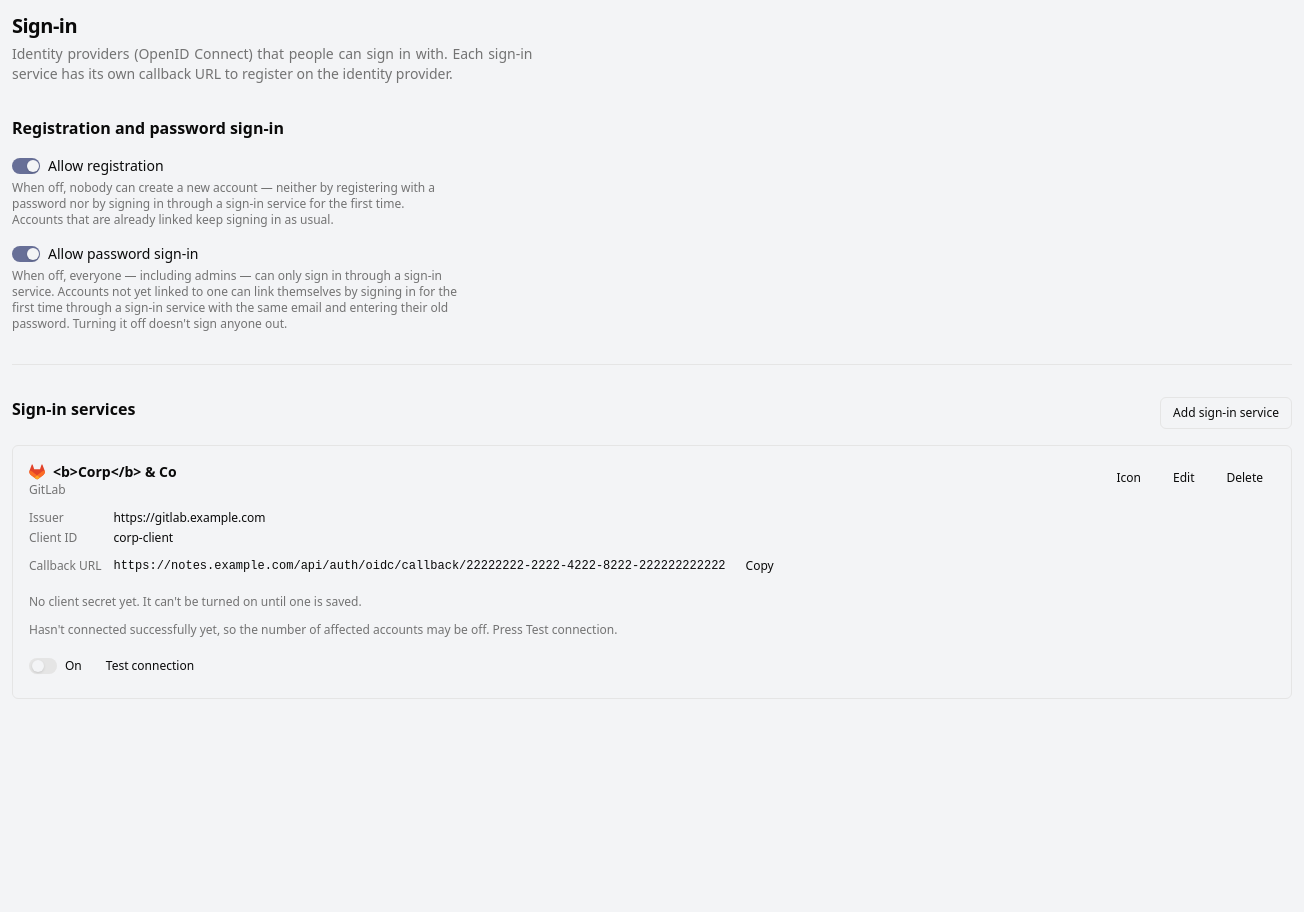
it: SettingsAuthSection（#187 §9.4 /admin/auth） › 複製回呼網址 → copyText 收到 callbackUrl、toast
What coordinates should you click on to do the following:
click the button "Copy"
I would click on:
 (760, 566)
Its box is [734,550,786,582].
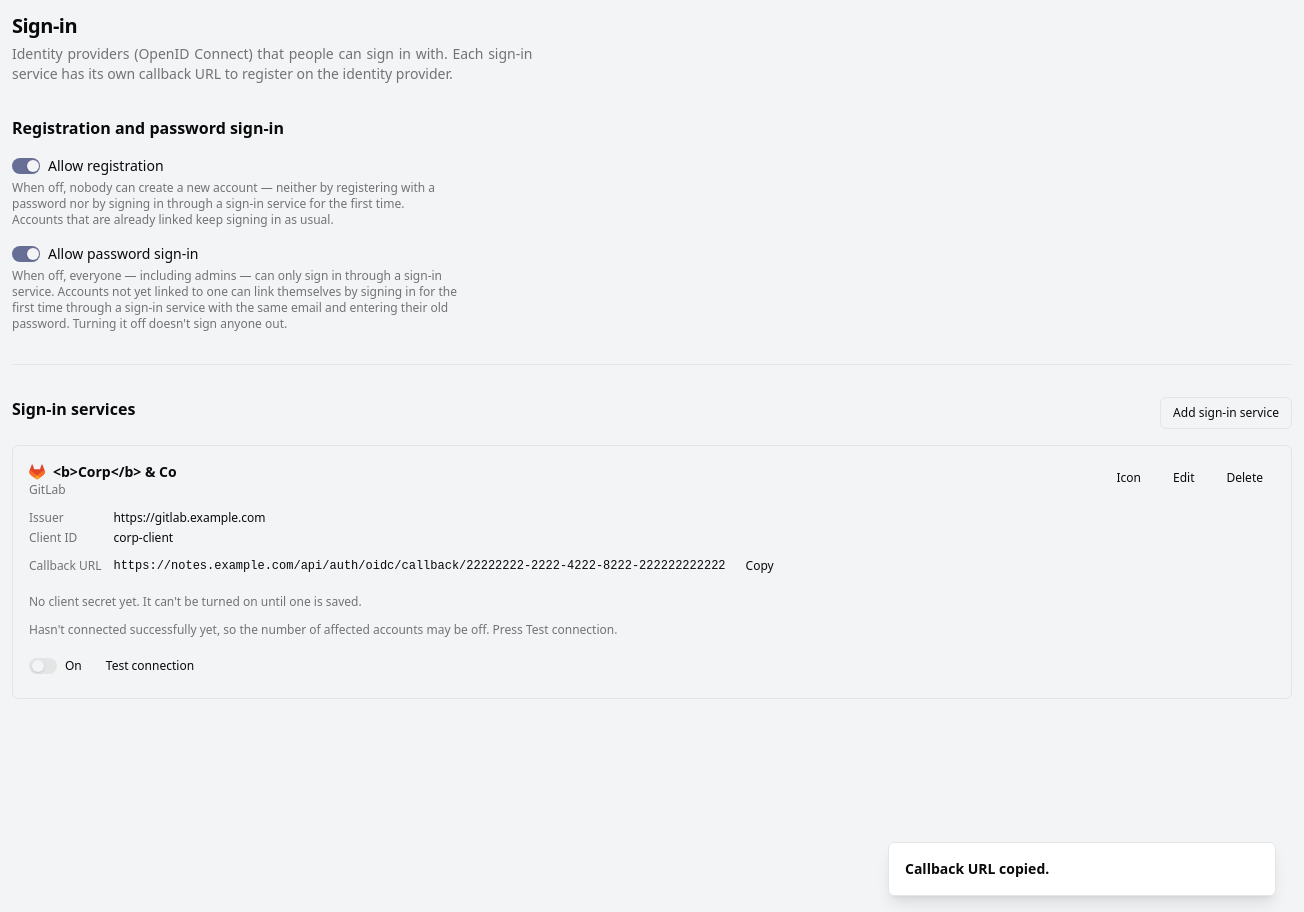
expect the text "Callback URL copied." is shown: met, box [905,859,1049,879]
